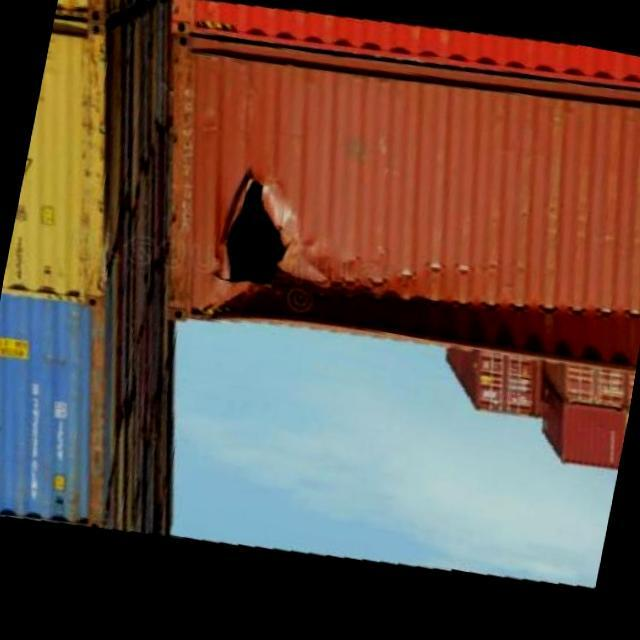hole: (169, 162, 376, 343)
